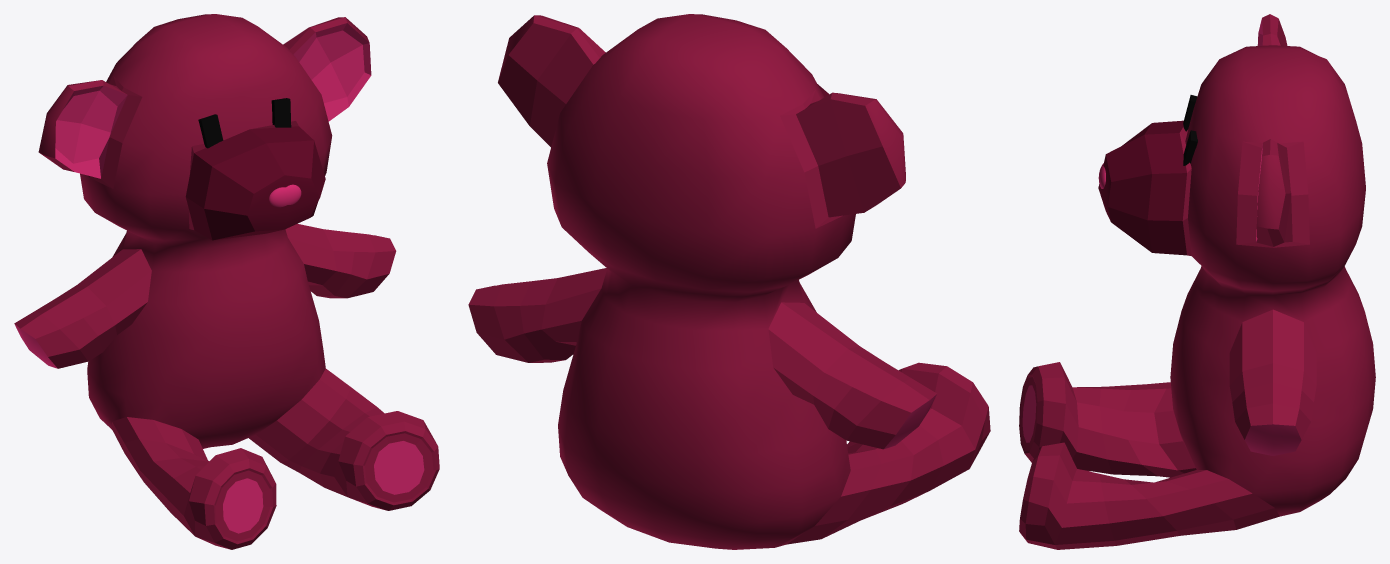
Rendered from Teddybear.FBX.
3 views of the same model, side by side, from view 1: azimuth 30°, elevation 25°; view 2: azimuth 150°, elevation 25°; view 3: azimuth 270°, elevation 25° (orthographic). The views are drawn at different scales.
Parts seen in each view (by area): view 1: Box002, Box004, Sphere001, Box003; view 2: Box002; view 3: Box002.
Boxes of the visible parts, x1,y1,x2,y2 form: Box002: (14,14,439,549); Box004: (198,114,223,148); Sphere001: (269,184,301,207); Box003: (271,98,291,127); Box002: (468,14,990,549); Box002: (1019,14,1375,549).
Size of the model in its own units: 46.59 by 50.6 by 36.99.
